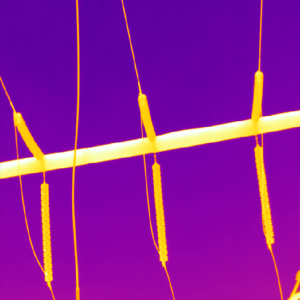insulator: (252, 145, 274, 244), (149, 161, 167, 263), (10, 110, 43, 161), (38, 181, 53, 281), (137, 91, 155, 143), (249, 66, 263, 123)
